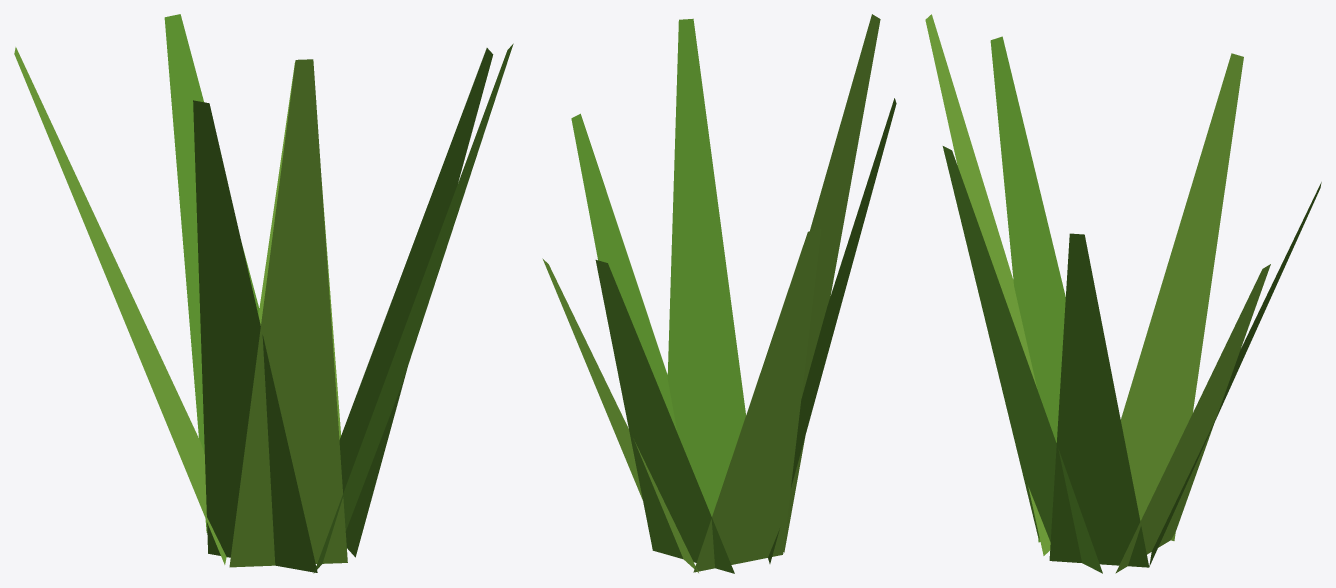
The model's file is detail_grass_tuft.glb.
The picture shows the model from 3 angles, left to right: view 1: azimuth 30°, elevation 25°; view 2: azimuth 150°, elevation 25°; view 3: azimuth 270°, elevation 25°; orthographic projection. The views are drawn at different scales.
Parts seen in each view (by area): view 1: detail.grass_tuft; view 2: detail.grass_tuft; view 3: detail.grass_tuft.
Part boxes in pixels (x1,y1,x2,y2): detail.grass_tuft: (14,14,513,573); detail.grass_tuft: (542,14,896,573); detail.grass_tuft: (925,14,1321,573).
Bounding box in the file's own units: 0.1651 × 0.2368 × 0.1724.
